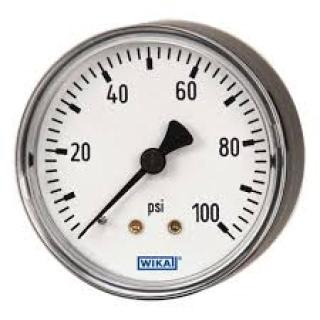gauge: (6, 6, 312, 310), (192, 200, 235, 244), (71, 217, 101, 246), (139, 147, 166, 175), (74, 227, 88, 243)
